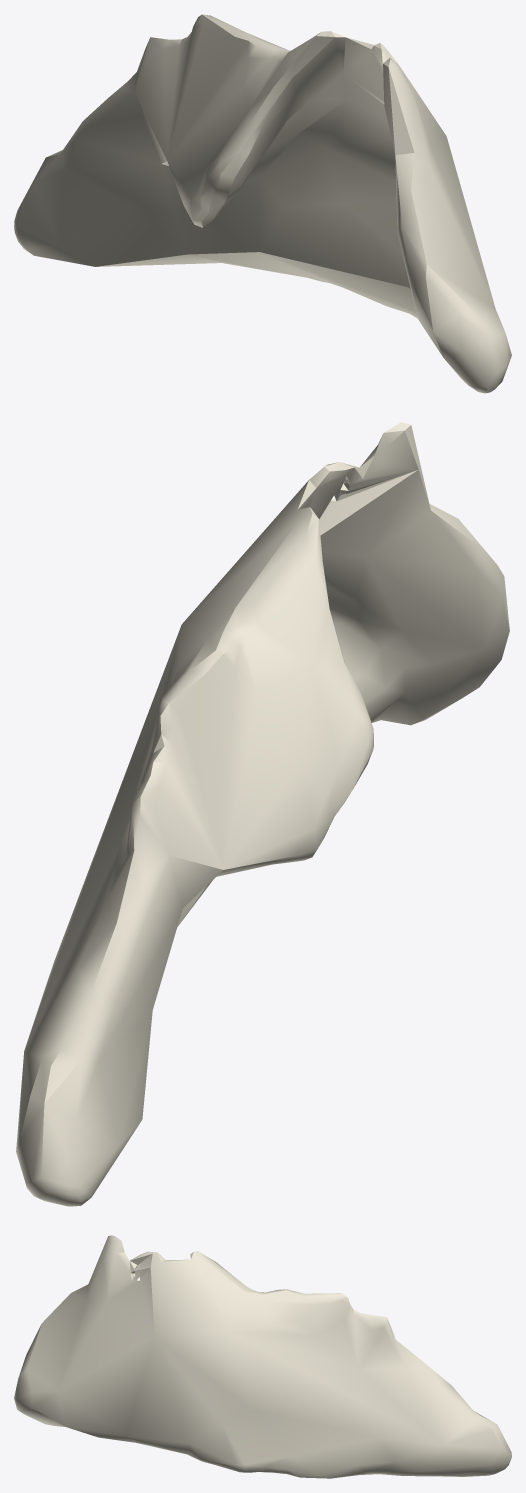
The model's file is fma54737_fj6463.glb.
The picture shows the model from 3 angles, top to bottom: view 1: azimuth 30°, elevation 25°; view 2: azimuth 150°, elevation 25°; view 3: azimuth 270°, elevation 25°; orthographic projection. The views are drawn at different scales.
Visible parts, largest first — view 1: FMA54737_FJ6463; view 2: FMA54737_FJ6463; view 3: FMA54737_FJ6463.
Boxes of the visible parts, left/top/right/bottom form: FMA54737_FJ6463: left=14, top=14, right=511, bottom=393; FMA54737_FJ6463: left=16, top=422, right=509, bottom=1206; FMA54737_FJ6463: left=14, top=1235, right=511, bottom=1478.
Size of the model in its own units: 0.00984 by 0.02 by 0.0364.
